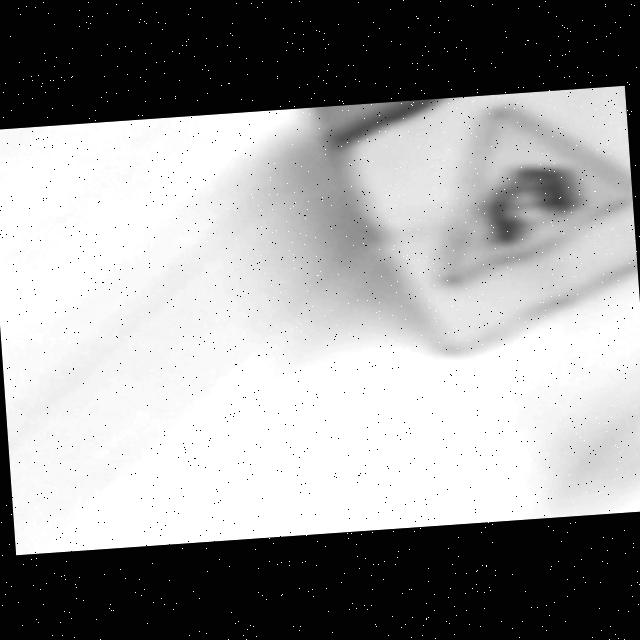Earthquake: (345, 85, 636, 348)
